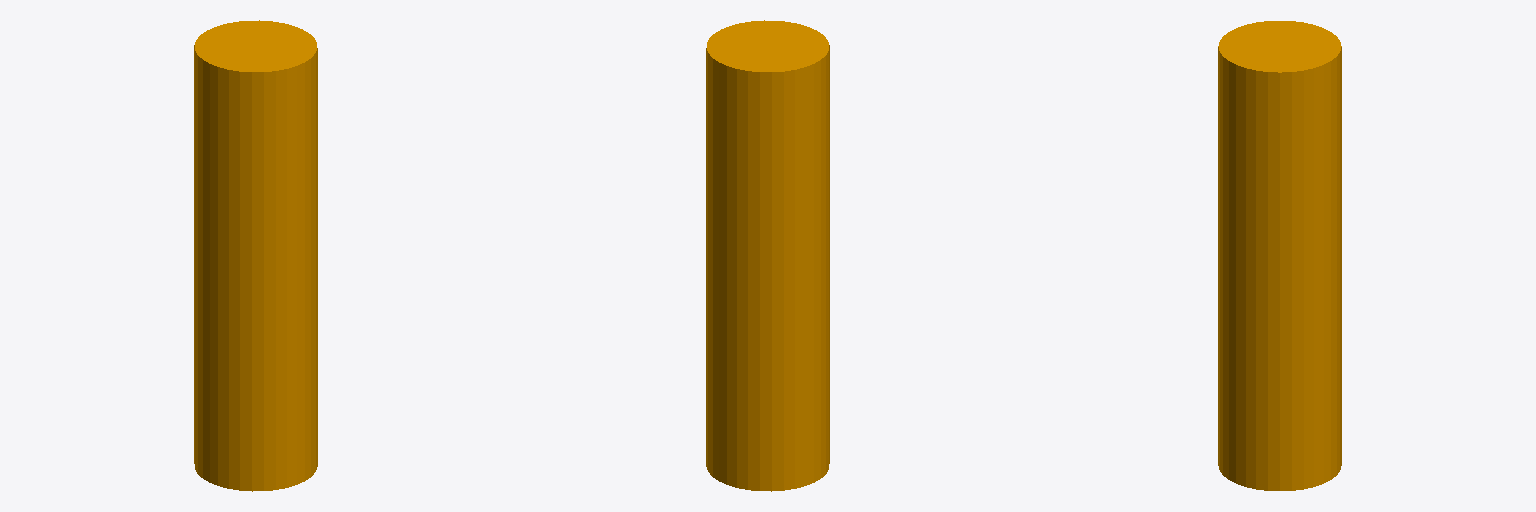
The robot description file, URDF, robot "Pringles":
<robot name="Pringles">
	<link name="Pringles">
		<inertial>
			<origin xyz="0 0 0.17" rpy="0 0 0" />			
			<mass value="0.25" />
			<!-- center of mass (com) is defined w.r.t. link local coordinate system -->
			<origin xyz="0 0 0" />
			<inertia  ixx="0.0" ixy="0.0"  ixz="0.0"  iyy="0.0"  iyz="0.0"  izz="0.0" />
		</inertial>
		<visual>
			<origin xyz="0 0 0" rpy="0 0 0" />
			<geometry>
				<cylinder radius="0.04" length="0.3" />
			</geometry>
		</visual>
		<collision>
			<origin xyz="0 0 0" rpy="0 0 0" />
			<geometry>
				<cylinder radius="0.04" length="0.3" />
			</geometry>
		</collision>
	</link>

	<gazebo reference="Pringles">
		<material>Custom/pringles</material>
	</gazebo>
</robot>

--- What the picture shows (computed from the rendered views, not written in the file) ---
The picture shows the robot from 3 angles, left to right: view 1: azimuth 30°, elevation 25°; view 2: azimuth 150°, elevation 25°; view 3: azimuth 270°, elevation 25°; orthographic projection.
Robot: Pringles — 1 links, 0 joints (none); root link Pringles; default pose: all joints at 0.
Links seen in each view (by area): view 1: Pringles; view 2: Pringles; view 3: Pringles.
Link boxes in pixels (bbox=[...]): Pringles: bbox=[194, 20, 317, 491]; Pringles: bbox=[706, 20, 829, 491]; Pringles: bbox=[1218, 21, 1341, 490].
Size in the robot's own frame: 0.08 by 0.08 by 0.3 metres.
Geometry: primitives only (box / cylinder / sphere), no mesh files.